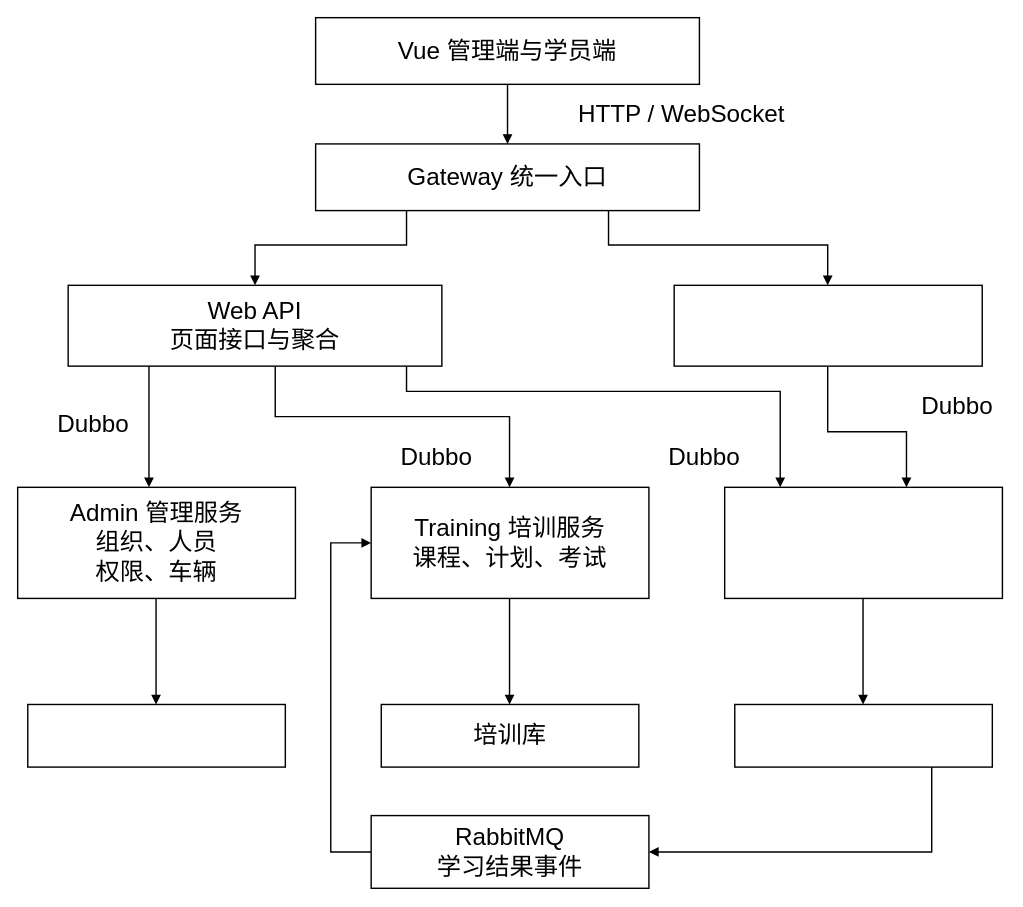
Some shapes in this 1023 by 907 pixel diagram are drawn without their labels. The shapes that lost their labels are listed below. From the top down, each one's centre as x and y in pixels, then its label:
point 827,325: Realtime 实时消息接入
point 863,542: Learning 学习服务 会话、学时、抽验 内嵌人脸适配器
point 156,735: 管理库
point 863,735: 学习库与 Outbox
